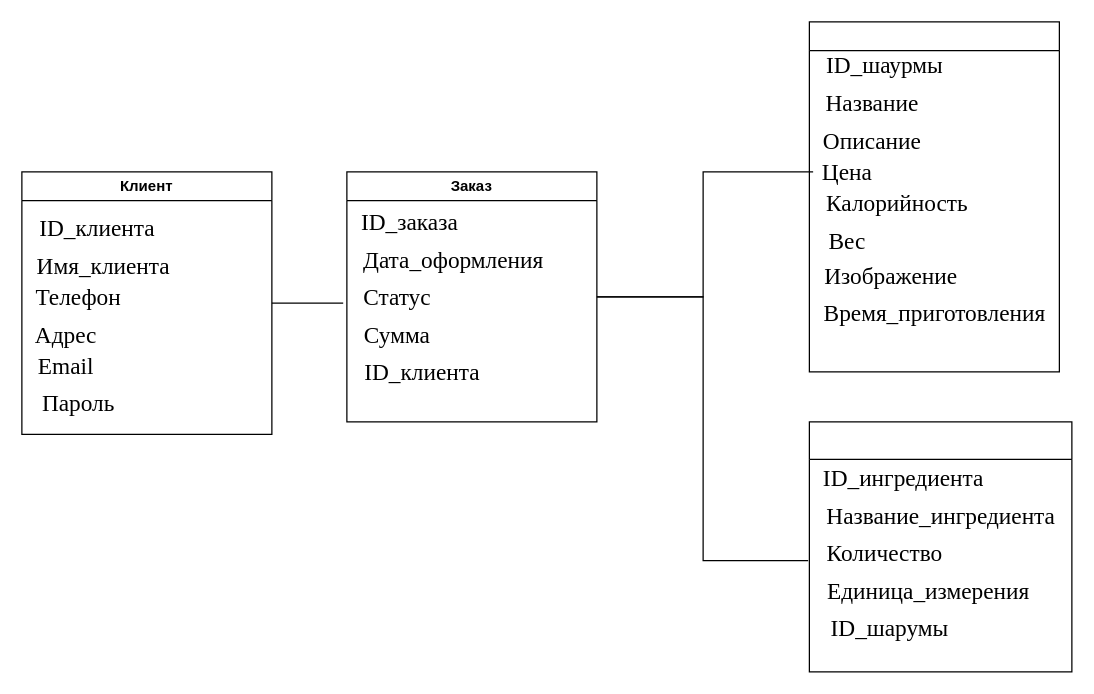
Some shapes in this 1094 by 694 pixel diagram are drawn without their labels. Each missing label, with the box of its shape:
Состав ингредиентов: (808, 421, 1072, 672)
Шаурма: (808, 21, 1059, 372)
